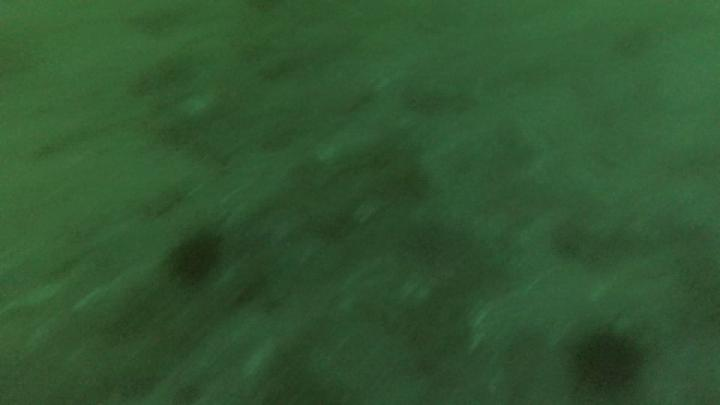echinus: (567, 324, 644, 402), (161, 221, 226, 292)
